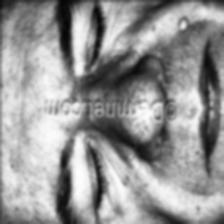Non-Cancerous Skin Condition: (102, 116, 156, 159)
